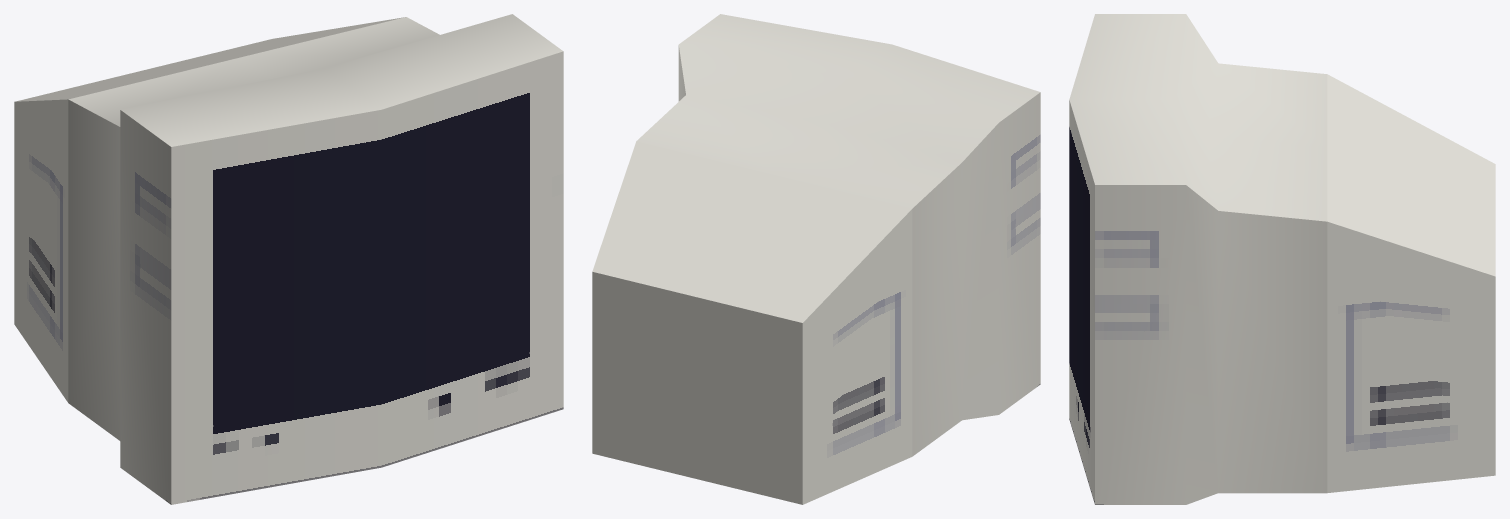
File: Computer.fbx
The picture shows the model from 3 angles, left to right: view 1: azimuth 30°, elevation 25°; view 2: azimuth 150°, elevation 25°; view 3: azimuth 270°, elevation 25°; orthographic projection. The views are drawn at different scales.
Parts seen in each view (by area): view 1: polySurface3; view 2: polySurface3; view 3: polySurface3.
Part boxes in pixels (x1,y1,x2,y2): polySurface3: [14, 14, 563, 504]; polySurface3: [592, 14, 1040, 504]; polySurface3: [1069, 14, 1495, 504].
Size of the model in its own units: 1.48 by 1.29 by 1.55.
Materials: 1 (1 with a texture image).
